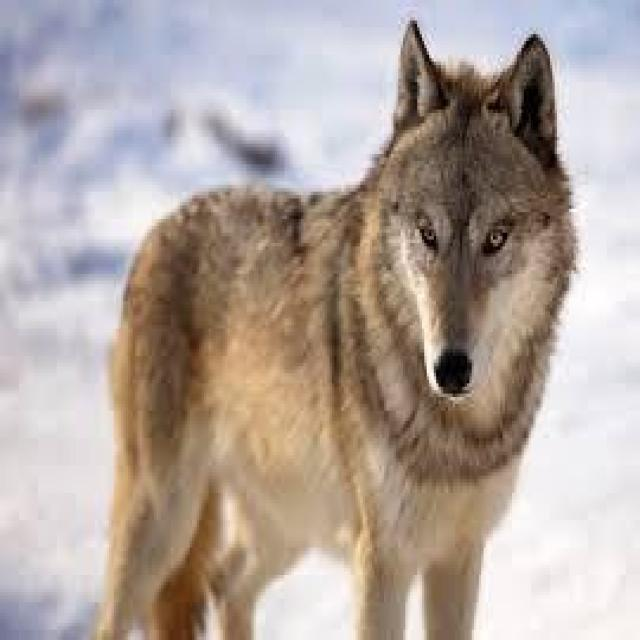Wolf: (58, 36, 615, 628)
